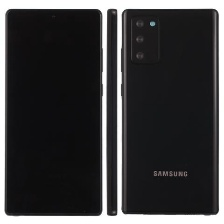phone: (3, 5, 104, 218), (121, 7, 221, 217), (105, 5, 118, 217)
